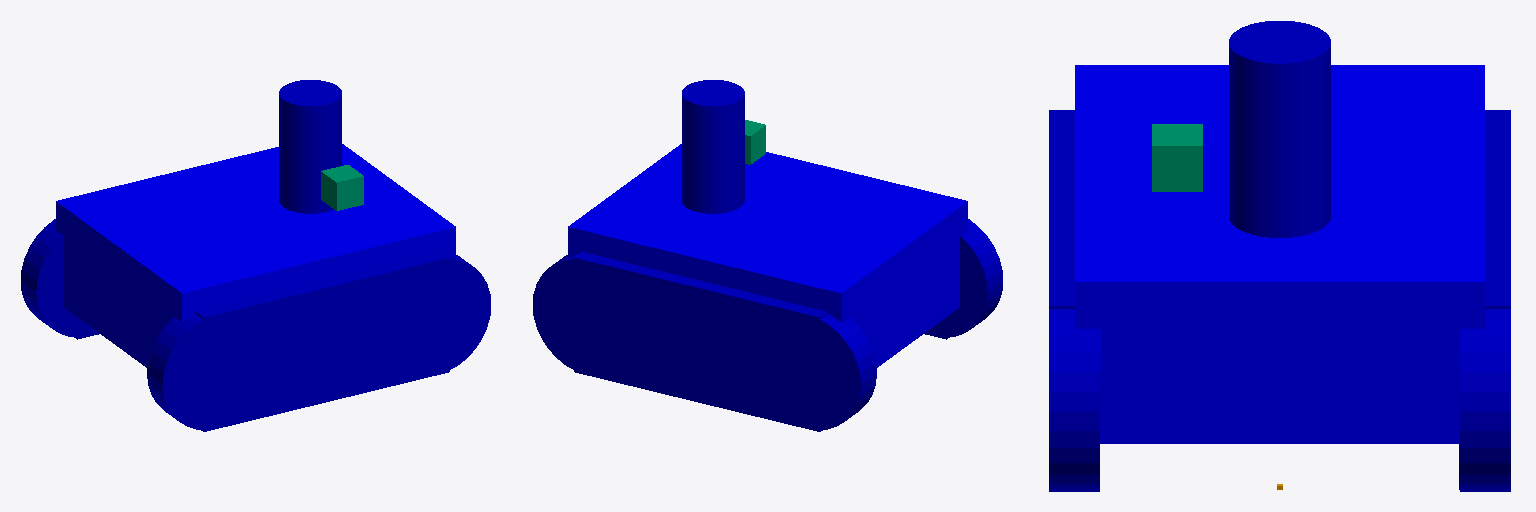
URDF robot description (zumoros):
<?xml version="1.0"?>
<robot name="zumoros">

  <material name="grey">
    <color rgba="0 0 1 0.5"/>
  </material>

  <material name="blue">
    <color rgba="0 0 0.8 0.5"/>
  </material>

  <material name="red">
    <color rgba="0.8 0 0 0.5"/>
  </material>

  <link name="base_footprint">
    <inertial>
      <mass value="0.0001"/>
      <origin xyz="0 0 0"/>
      <inertia ixx="0.0001" ixy="0.0" ixz="0.0" iyy="0.0001" iyz="0.0" izz="0.0001"/>
    </inertial>
    <visual>
      <origin rpy="0 0 0" xyz="0 0 0"/>
      <geometry>
        <box size="0.001 0.001 0.001"/>
      </geometry>
    </visual>
  </link>
  
  <joint name="base_footprint_joint" type="fixed">
    <origin rpy="0 0 0" xyz="0 0 0.04"/>
    <parent link="base_footprint"/>
    <child link="base_link"/>
  </joint>


  <link name="base_link">
  <!-- BOX -->
    <visual>
		<origin xyz="0 0 0.01" rpy="0 0 0"/>
      <material name="grey"/>
      <geometry>
        <box size="0.10 0.08 0.035"/>
      </geometry>
    </visual>

   <!-- LEFT WHEEL -->
	<visual>
		<origin xyz="0.0 0.04 0" rpy="0 0 0"/>
      <material name="blue"/>
		<geometry>
          <box size="0.09 0.01 0.04"/>
		</geometry>
   </visual>
	<visual>
		<origin xyz="0.04 0.04 0" rpy="1.57 0 0"/>
      <material name="blue"/>
	  <geometry>
       <cylinder length="0.01" radius="0.02"/>
	  </geometry>
   </visual>
	<visual>
		<origin xyz="-0.04 0.04 0" rpy="1.57 0 0"/>
      <material name="blue"/>
	  <geometry>
       <cylinder length="0.01" radius="0.02"/>
	  </geometry>
  </visual>
   <!-- RIGHT WHEEL -->
	<visual>
		<origin xyz="0.0 -0.04 0" rpy="0 0 0"/>
      <material name="blue"/>
	  <geometry>
       <box size="0.09 0.01 0.04"/>
	  </geometry>
   </visual>
	<visual>
		<origin xyz="0.04 -0.04 0" rpy="1.57 0 0"/>
      <material name="blue"/>
	  <geometry>
       <cylinder length="0.01" radius="0.02"/>
	  </geometry>
   </visual>
	<visual>
		<origin xyz="-0.04 -0.04 0" rpy="1.57 0 0"/>
      <material name="blue"/>
	  <geometry>
       <cylinder length="0.01" radius="0.02"/>
	  </geometry>
  </visual>

   <!-- TOWER -->
	<visual>
		<origin xyz="0.02 0 0.03" rpy="0 0 0"/>
      <material name="blue"/>
	  <geometry>
       <cylinder length="0.07" radius="0.01"/>
	  </geometry>
   </visual>
  </link>

  <!-- US-08 -->
  <!--link name="sonar_link">
	<visual>
		<origin xyz="0 0.01 0" rpy="0 1.57 0"/>
      <material name="red"/>
	  <geometry>
       <cylinder length="0.02" radius="0.01"/>
	  </geometry>
   </visual>
	<visual>
		<origin xyz="0 -0.01 0" rpy="0 1.57 0"/>
      <material name="red"/>
	  <geometry>
       <cylinder length="0.02" radius="0.01"/>
	  </geometry>
   </visual>
 </link>

  <joint name="base_to_sonar" type="fixed">
    <parent link="base_link"/>
    <child link="sonar_link"/>
    <origin xyz="0.08 0 0.04"/>
  </joint-->

  <!--link name="camera_link">
	<visual>
    <origin xyz="0.0 0 0.0" rpy="0 0 0"/>
      <material name="black"/>
		<geometry>
          <box size="0.04 0.04 0.04"/>
		</geometry>
   </visual>
  </link>

  <joint name="base_to_camera" type="fixed">
    <parent link="base_link"/>
    <child link="camera_link"/>
    <origin xyz="0.02 0.0 0.08"/>
  </joint-->

  <link name="imu_link">
   <!-- IMU -->
	<visual>
    <origin xyz="0 0 0" rpy="0 0 0"/>
      <material name="black"/>
		<geometry>
          <box size="0.01 0.01 0.01"/>
		</geometry>
   </visual>
  </link>

  <joint name="base_to_imu" type="fixed">
    <parent link="base_link"/>
    <child link="imu_link"/>
    <origin xyz="0.02 -0.02 0.04"/>
  </joint>

</robot>

--- Facts derived from the render (not from the file) ---
The picture shows the robot from 3 angles, left to right: view 1: azimuth 30°, elevation 25°; view 2: azimuth 150°, elevation 25°; view 3: azimuth 270°, elevation 25°; orthographic projection.
Model zumoros with 3 links and 2 joints (2 fixed), rooted at base_footprint, posed every joint at zero.
Visible links, largest first — view 1: base_link, imu_link; view 2: base_link, imu_link; view 3: base_link, imu_link.
Boxes of the visible links, <box> form: base_link: <box>21,80,490,431</box>; imu_link: <box>321,165,363,210</box>; base_link: <box>533,80,1002,431</box>; imu_link: <box>745,120,765,164</box>; base_link: <box>1049,21,1510,491</box>; imu_link: <box>1152,124,1202,191</box>.
Size in the robot's own frame: 0.12 by 0.09 by 0.1055 metres.
Geometry: primitives only (box / cylinder / sphere), no mesh files.
